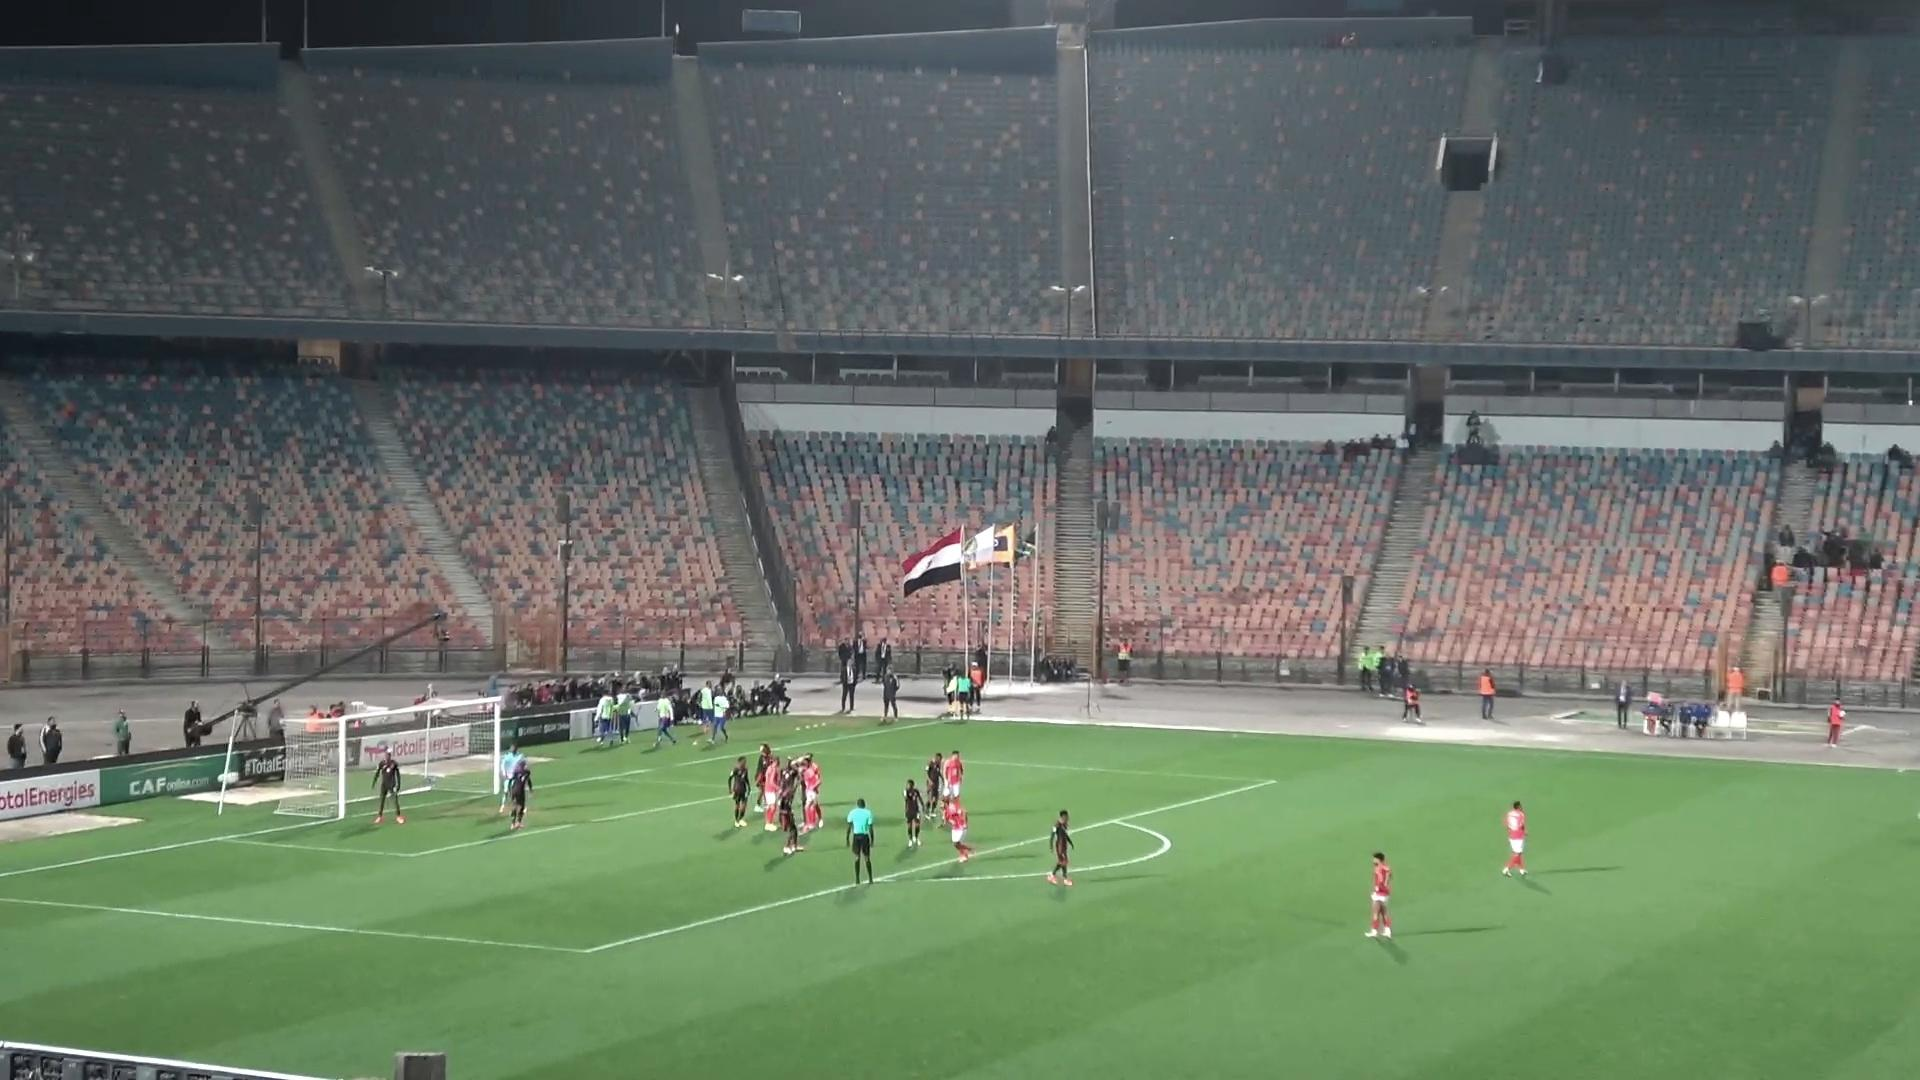GK2: (498, 742, 529, 818)
Refree: (847, 798, 873, 884), (955, 666, 978, 717)
Team1: (781, 754, 822, 855), (1365, 851, 1393, 939), (940, 794, 972, 862), (1501, 800, 1527, 876), (942, 750, 967, 824)
Team2: (498, 752, 531, 829), (758, 746, 787, 831), (373, 748, 405, 824), (902, 781, 936, 851), (727, 757, 760, 827), (1046, 811, 1073, 886), (920, 752, 942, 828)
